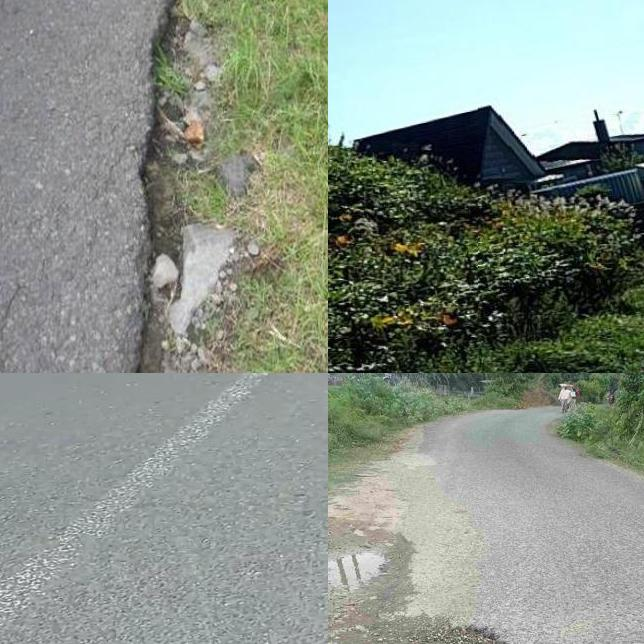Pinggir: (78, 0, 243, 373), (330, 608, 528, 644)
